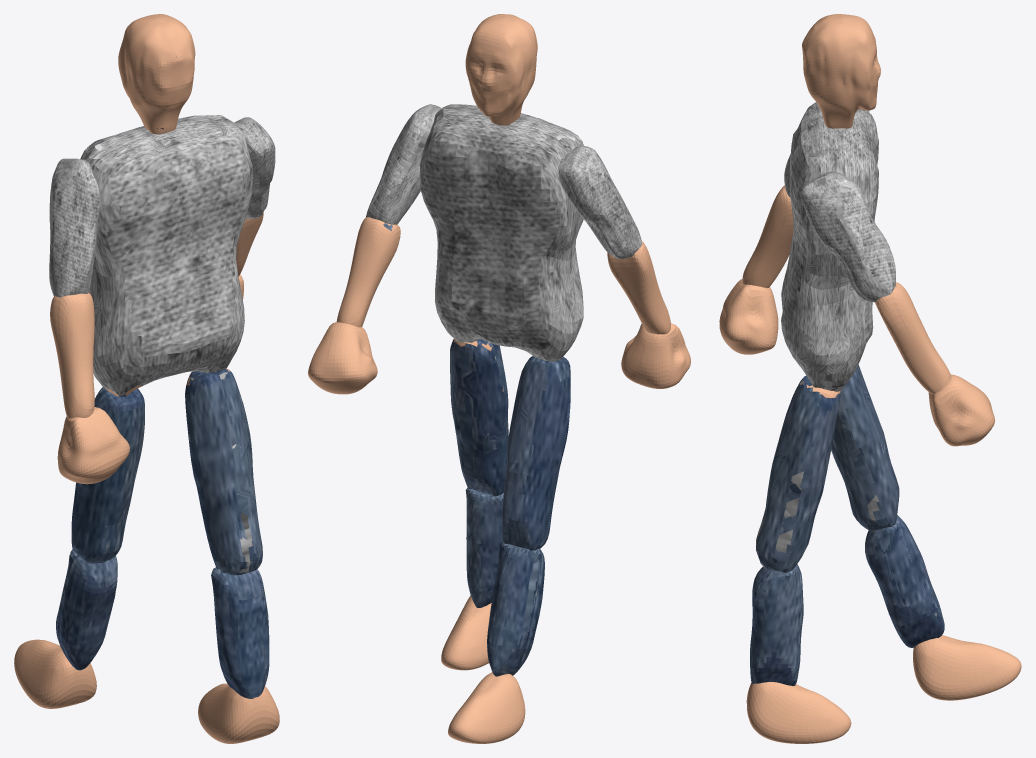
Rendered from mainCharacter.obj.
The picture shows the model from 3 angles, left to right: view 1: azimuth 30°, elevation 25°; view 2: azimuth 150°, elevation 25°; view 3: azimuth 270°, elevation 25°; orthographic projection. The views are drawn at different scales.
Parts seen in each view (by area): view 1: Cube.007, Cube.001, Cube.016, Cube.001_Cube.017, Cube.006_Cube.021, Cube.002_Cube.018, Cube.004, Cube.008_Cube.022, Cube.003_Cube.019, Cube.011_Cube.024, Cube.005_Cube.020, Cube.010 (+1 smaller); view 2: Cube.007, Cube.001_Cube.017, Cube.001, Cube.016, Cube.004, Cube.006_Cube.021, Cube.010, Cube.003_Cube.019, Cube.009_Cube.023, Cube.015, Cube.002_Cube.018, Cube.011_Cube.024 (+2 smaller); view 3: Cube.007, Cube.001, Cube.010, Cube.016, Cube.001_Cube.017, Cube.004, Cube.002_Cube.018, Cube.003_Cube.019, Cube.005_Cube.020, Cube.015, Cube.011_Cube.024, Cube.009_Cube.023 (+1 smaller).
Boxes of the visible parts, x1,y1,x2,y2 form: Cube.007: [80, 115, 252, 396]; Cube.001: [185, 368, 262, 575]; Cube.016: [118, 14, 195, 134]; Cube.001_Cube.017: [71, 387, 144, 563]; Cube.006_Cube.021: [49, 158, 99, 297]; Cube.002_Cube.018: [211, 567, 269, 698]; Cube.004: [56, 549, 117, 670]; Cube.008_Cube.022: [50, 292, 94, 418]; Cube.003_Cube.019: [14, 639, 96, 708]; Cube.011_Cube.024: [57, 407, 129, 484]; Cube.005_Cube.020: [198, 683, 279, 743]; Cube.010: [234, 117, 275, 219]; Cube.007: [420, 104, 583, 361]; Cube.001_Cube.017: [502, 356, 570, 550]; Cube.001: [450, 339, 508, 496]; Cube.016: [465, 14, 537, 125]; Cube.004: [487, 542, 544, 676]; Cube.006_Cube.021: [558, 146, 642, 259]; Cube.010: [366, 104, 441, 224]; Cube.003_Cube.019: [448, 672, 525, 743]; Cube.009_Cube.023: [308, 322, 377, 394]; Cube.015: [336, 217, 400, 327]; Cube.002_Cube.018: [465, 487, 503, 607]; Cube.011_Cube.024: [621, 323, 690, 388]; Cube.007: [781, 102, 878, 391]; Cube.001: [756, 375, 840, 572]; Cube.010: [800, 171, 895, 302]; Cube.016: [802, 14, 880, 128]; Cube.001_Cube.017: [831, 364, 899, 531]; Cube.004: [865, 515, 944, 647]; Cube.002_Cube.018: [750, 564, 803, 685]; Cube.003_Cube.019: [913, 635, 1021, 700]; Cube.005_Cube.020: [746, 682, 851, 743]; Cube.015: [875, 282, 951, 394]; Cube.011_Cube.024: [719, 279, 778, 354]; Cube.009_Cube.023: [928, 374, 994, 446].
Size of the model in its own units: 0.9176 by 2.18 by 0.8613.
3 materials, 3 textured.
